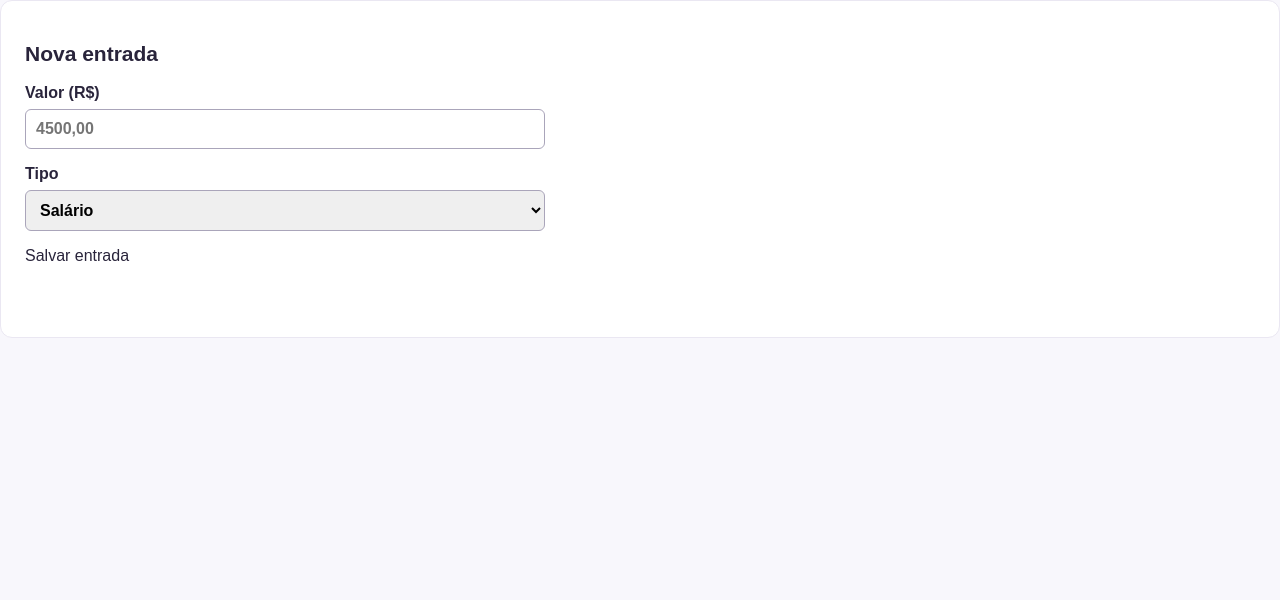
Test: finance forms › reveals responsible, description and date for recurring incomes
Check: the field labelled "Responsável" is not shown
Select "Recorrente" in the dropdown labelled "Tipo": (285, 210) [25,190,545,231]
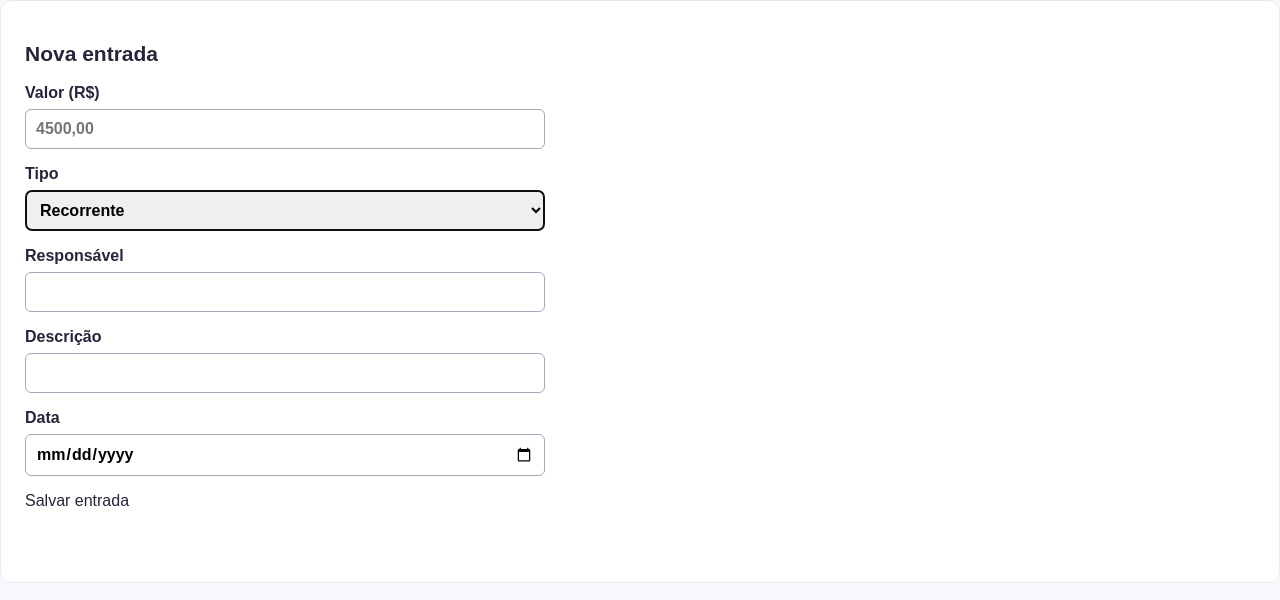
Check: the field labelled "Responsável" is shown, box [25,272,545,312]
Check: the field labelled "Descrição" is shown, box [25,353,545,393]
Check: the date field labelled "Data" is shown, box [25,434,545,476]
